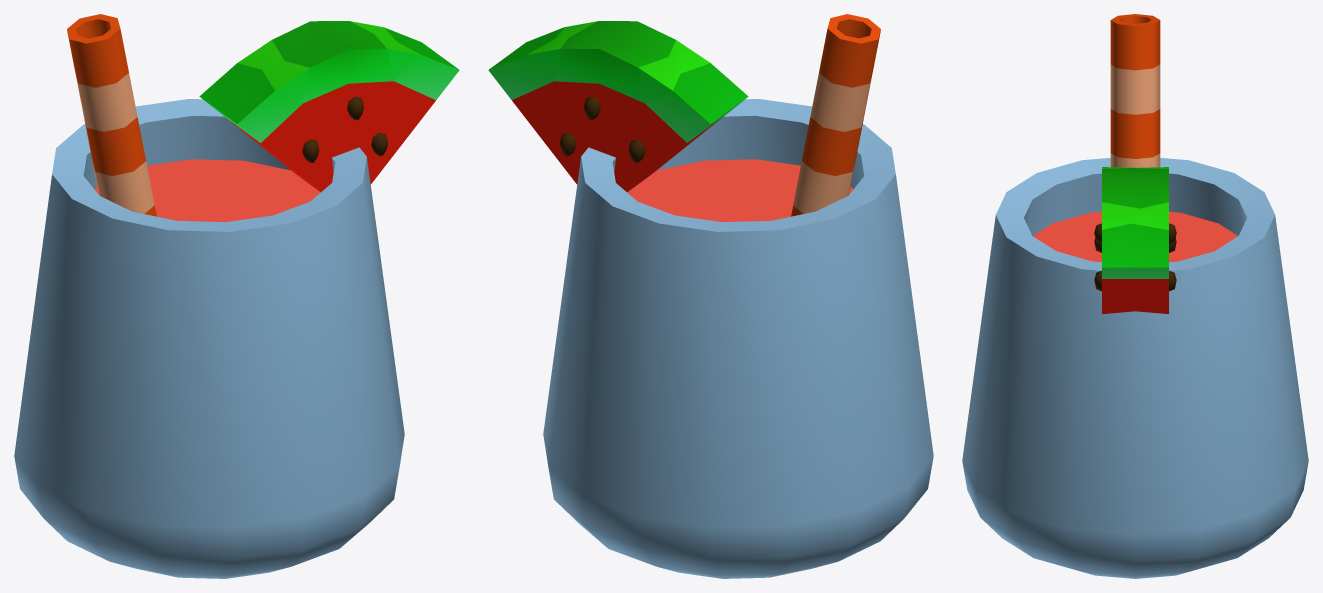
Rendered from Smoothie_01_Malon.fbx.
3 renders of one model, left to right at view 1: azimuth 30°, elevation 25°; view 2: azimuth 150°, elevation 25°; view 3: azimuth 270°, elevation 25°, orthographic. The views are drawn at different scales.
Parts seen in each view (by area): view 1: Smoothie_01_Malon; view 2: Smoothie_01_Malon; view 3: Smoothie_01_Malon.
Boxes of the visible parts, x1,y1,x2,y2 form: Smoothie_01_Malon: [14, 14, 459, 578]; Smoothie_01_Malon: [488, 14, 933, 578]; Smoothie_01_Malon: [962, 14, 1308, 578].
Size of the model in its own units: 56.04 by 72.05 by 47.57.
